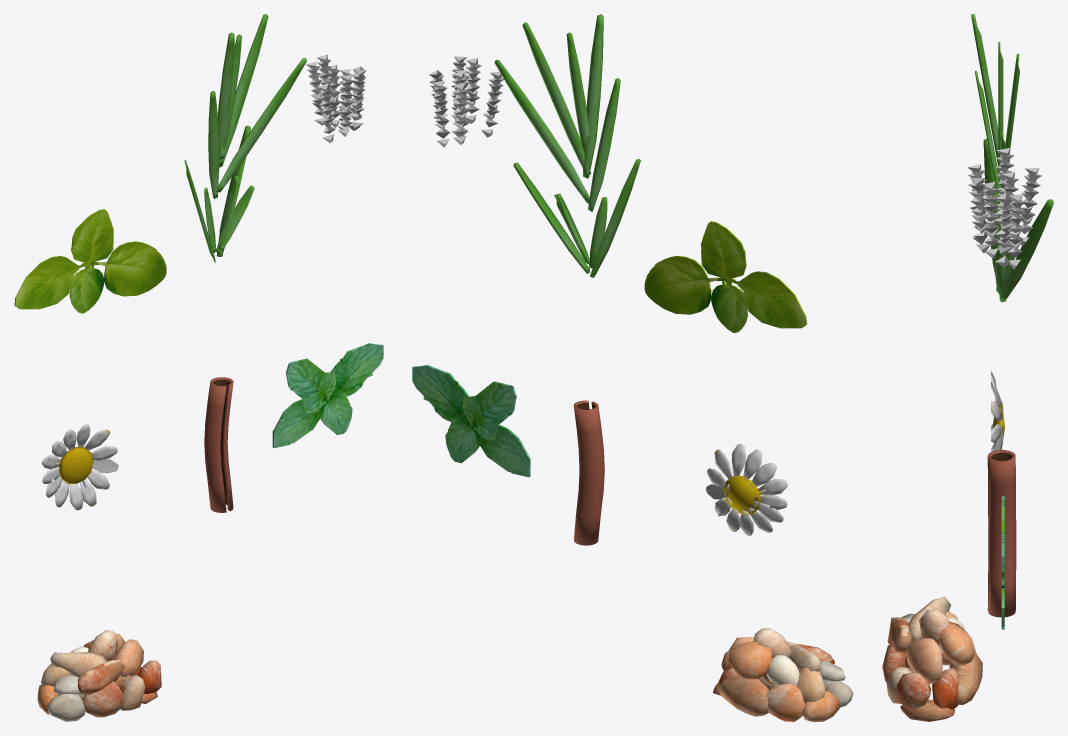
File: IngredientsLoose.fbx
The picture shows the model from 3 angles, left to right: view 1: azimuth 30°, elevation 25°; view 2: azimuth 150°, elevation 25°; view 3: azimuth 270°, elevation 25°; orthographic projection. The views are drawn at different scales.
Visible parts, largest first — view 1: Cinnamon, Basil, Basil.001, Peppermint.002, Basil.002, Peppermint, Rosemary.002, Peppermint.001, Rosemary.010, Rosemary.006, Basil.003, HimalayanRockSalt.001 (+13 smaller); view 2: Cinnamon, Basil, Basil.001, Peppermint.002, Basil.002, Peppermint, Rosemary.006, Rosemary.002, Rosemary.010, Peppermint.001, HimalayanRockSalt.017, Rosemary.001 (+11 smaller); view 3: Cinnamon, Rosemary.005, HimalayanRockSalt.008, HimalayanRockSalt.013, HimalayanRockSalt.006, Rosemary.006, HimalayanRockSalt.017, HimalayanRockSalt.011, HimalayanRockSalt.014, HimalayanRockSalt.018, HimalayanRockSalt.004, Rosemary.001 (+7 smaller).
Boxes of the visible parts, box(x1,y1,x2,y2) form: Cinnamon: box(204, 377, 233, 512); Basil: box(91, 241, 166, 296); Basil.001: box(14, 256, 87, 309); Peppermint.002: box(325, 343, 383, 395); Basil.002: box(71, 209, 113, 268); Peppermint: box(272, 396, 325, 448); Rosemary.002: box(216, 58, 306, 192); Peppermint.001: box(285, 358, 325, 403); Rosemary.010: box(219, 14, 268, 165); Rosemary.006: box(218, 32, 234, 167); Basil.003: box(69, 264, 103, 313); HimalayanRockSalt.001: box(82, 681, 124, 717); Cinnamon: box(573, 400, 604, 545); Basil: box(644, 255, 725, 314); Basil.001: box(729, 271, 807, 328); Peppermint.002: box(412, 365, 474, 421); Basil.002: box(701, 221, 746, 285); Peppermint: box(474, 421, 530, 477); Rosemary.006: box(583, 14, 603, 178); Rosemary.002: box(494, 59, 589, 203); Rosemary.010: box(522, 22, 590, 174); Peppermint.001: box(474, 381, 516, 429); HimalayanRockSalt.017: box(718, 676, 768, 716); Rosemary.001: box(588, 78, 620, 211); Cinnamon: box(987, 450, 1016, 617); Rosemary.005: box(999, 199, 1053, 301); HimalayanRockSalt.008: box(905, 638, 942, 683); HimalayanRockSalt.013: box(939, 621, 974, 665); HimalayanRockSalt.006: box(896, 672, 930, 709); Rosemary.006: box(971, 14, 1000, 179); HimalayanRockSalt.017: box(954, 651, 982, 704); HimalayanRockSalt.011: box(932, 668, 959, 709); HimalayanRockSalt.014: box(919, 609, 949, 644); HimalayanRockSalt.018: box(900, 699, 954, 721); HimalayanRockSalt.004: box(887, 617, 914, 652); Rosemary.001: box(975, 70, 1000, 203).
Bounding box in the file's own units: 558 × 894 × 181.
